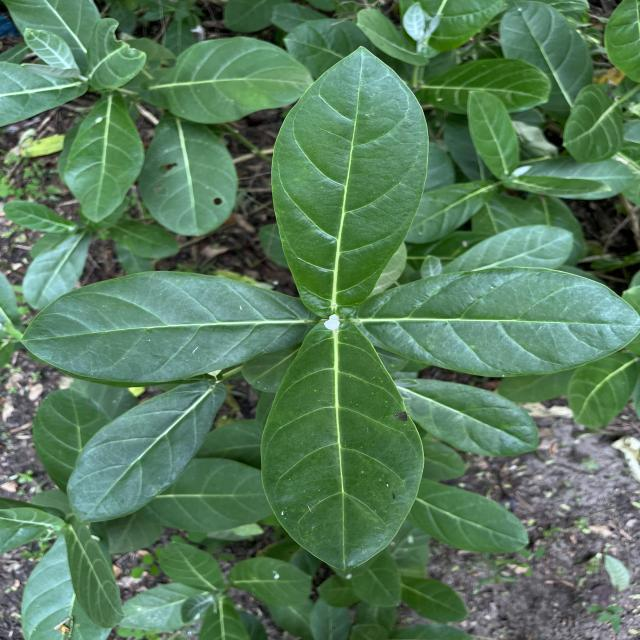Calotropis gigantea: (256, 316, 429, 574), (268, 44, 430, 317), (19, 268, 312, 384), (355, 264, 640, 379), (65, 380, 230, 525), (140, 37, 314, 125), (138, 112, 240, 238), (398, 378, 540, 458), (64, 89, 148, 224), (412, 478, 530, 554), (464, 86, 522, 180), (562, 83, 626, 164)
